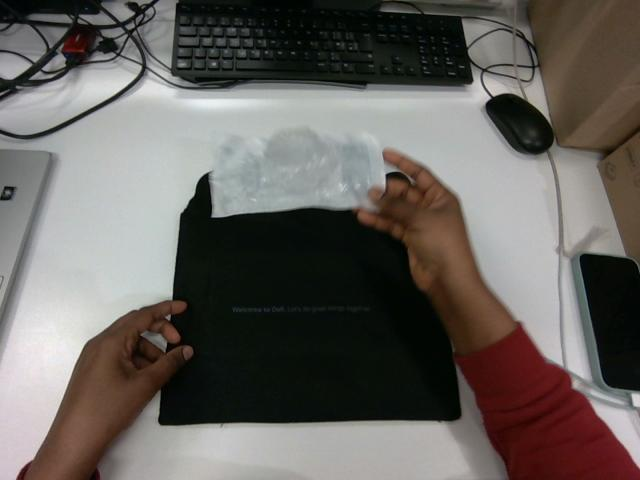gallipot: (209, 128, 384, 217)
